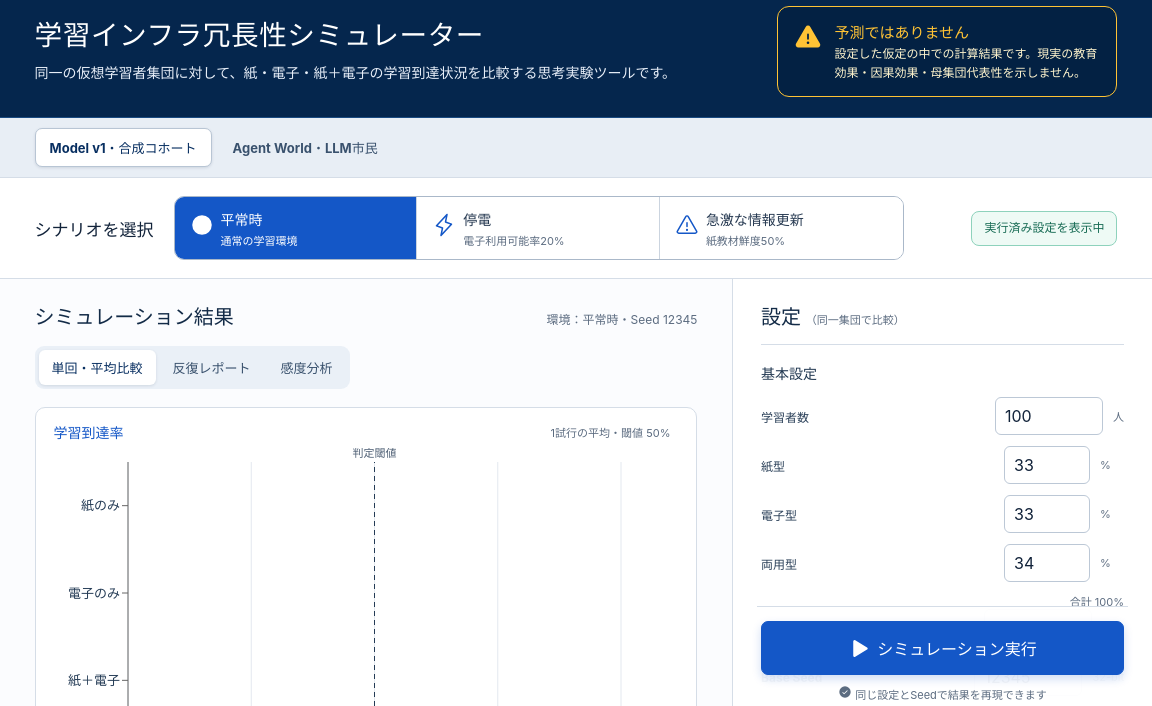
it: App › shows the reproducible report and its explicit limitations
Click the button "反復レポート": (212, 368) [160,350,264,385]
(page scrolled)
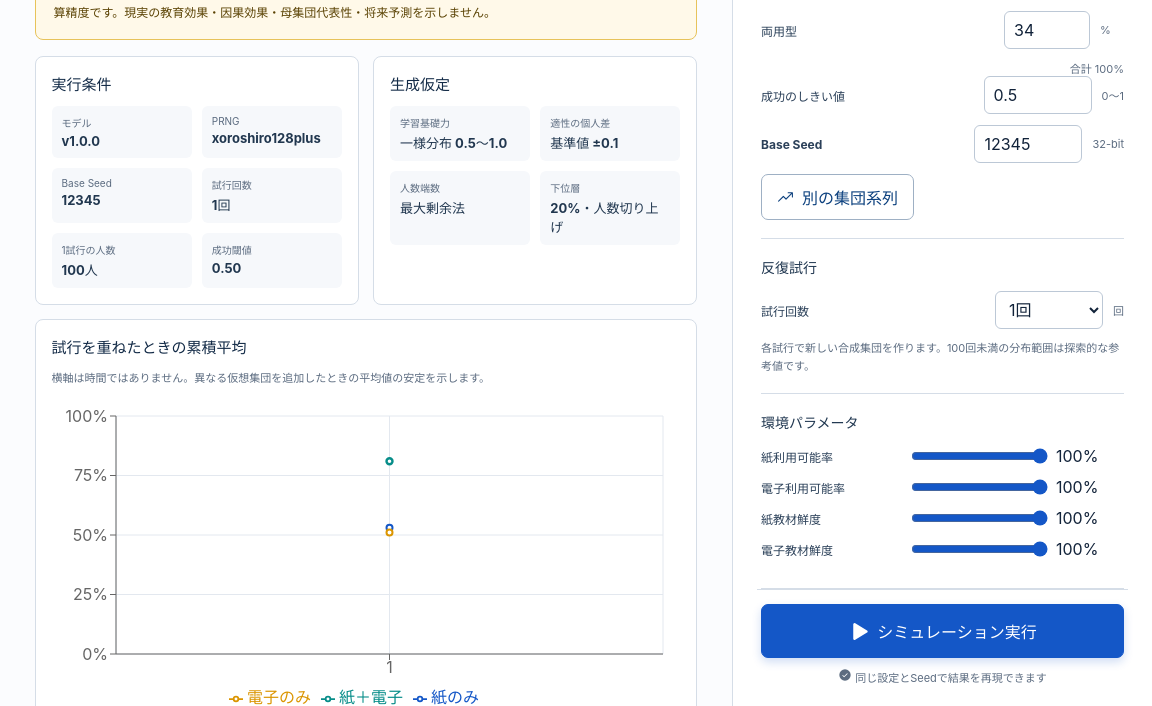
Expected: the heading "試行を重ねたときの累積平均" is shown, [52,338,246,357]
